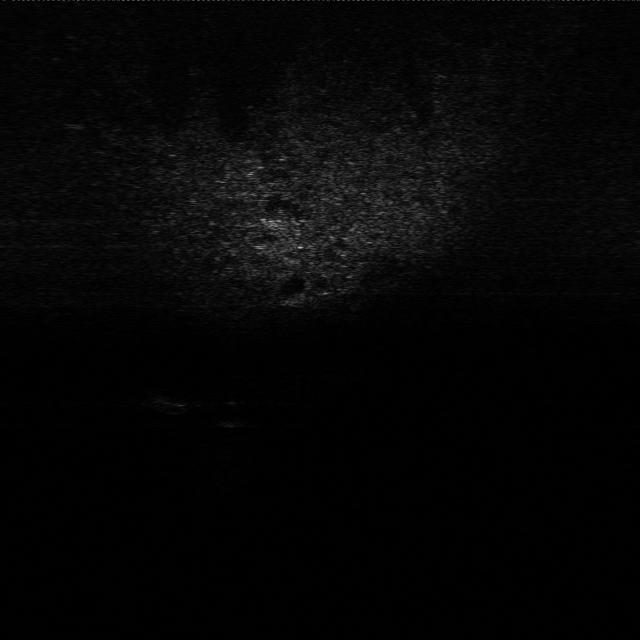ball: (213, 395, 257, 431)
circle cage: (143, 397, 206, 421)
